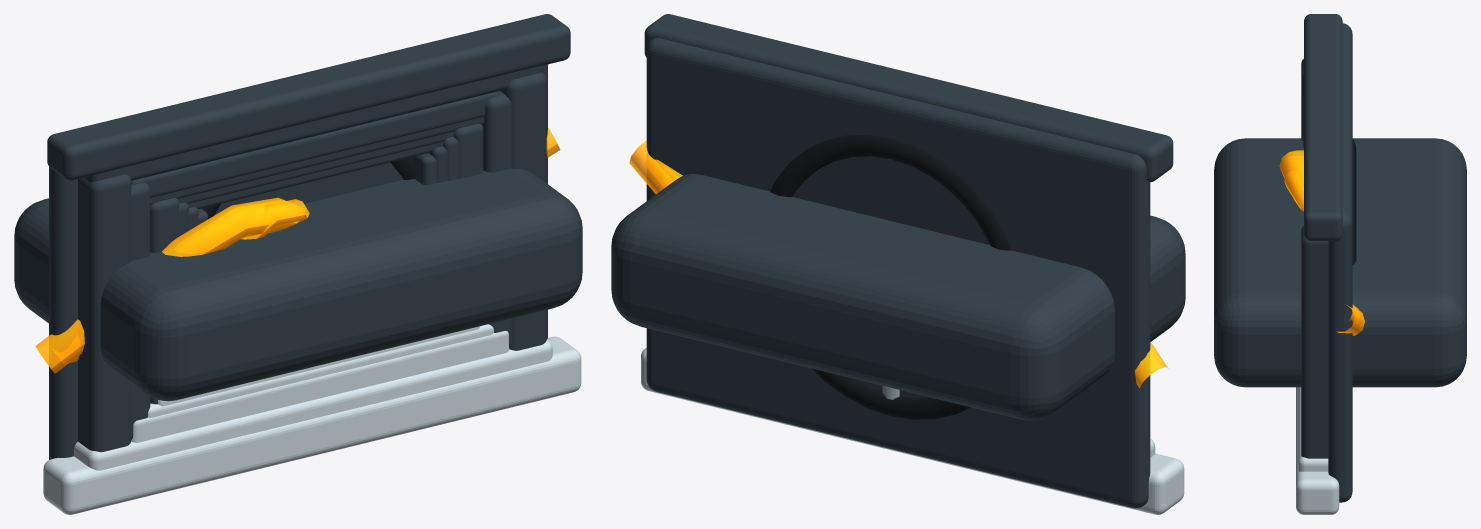
File: body_22.glb
3 views of the same model, side by side, from view 1: azimuth 30°, elevation 25°; view 2: azimuth 150°, elevation 25°; view 3: azimuth 270°, elevation 25° (orthographic). The views are drawn at different scales.
Parts seen in each view (by area): view 1: asset_mesh__body_1070__reference_body, asset_mesh__body_1088__lower_flange, asset_mesh__body_1088__upper_flange, asset_mesh__body_1088__left_reinforcement, asset_mesh__body_1088__stamped_sheet, asset_mesh__body_1068__upper_flange, asset_mesh__body_1110__upper_flange, asset_mesh__body_1110__lower_flange, asset_mesh__body_1068__lower_flange, asset_mesh__body_1097__fluid_path, asset_mesh__body_1088__right_reinforcement, asset_mesh__body_1109__upper_flange (+10 smaller); view 2: asset_mesh__body_1088__stamped_sheet, asset_mesh__body_1070__reference_body, asset_mesh__body_1088__lower_flange, asset_mesh__body_1115__service_element, asset_mesh__body_1088__upper_flange, asset_mesh__body_1097__fluid_path; view 3: asset_mesh__body_1070__reference_body, asset_mesh__body_1088__lower_flange, asset_mesh__body_1088__stamped_sheet, asset_mesh__body_1088__right_reinforcement, asset_mesh__body_1088__upper_flange, asset_mesh__body_1097__fluid_path, asset_mesh__body_1068__upper_flange, asset_mesh__body_1115__service_element, asset_mesh__body_1098__fluid_path.
Boxes of the visible parts, left/top/right/bottom form: asset_mesh__body_1070__reference_body: left=14, top=168, right=582, bottom=401; asset_mesh__body_1088__lower_flange: left=47, top=14, right=570, bottom=180; asset_mesh__body_1088__upper_flange: left=43, top=336, right=581, bottom=514; asset_mesh__body_1088__left_reinforcement: left=78, top=174, right=131, bottom=452; asset_mesh__body_1088__stamped_sheet: left=49, top=64, right=547, bottom=459; asset_mesh__body_1068__upper_flange: left=74, top=340, right=552, bottom=470; asset_mesh__body_1110__upper_flange: left=131, top=331, right=509, bottom=442; asset_mesh__body_1110__lower_flange: left=131, top=91, right=500, bottom=197; asset_mesh__body_1068__lower_flange: left=84, top=65, right=542, bottom=182; asset_mesh__body_1097__fluid_path: left=35, top=127, right=560, bottom=373; asset_mesh__body_1088__right_reinforcement: left=501, top=72, right=546, bottom=350; asset_mesh__body_1109__upper_flange: left=148, top=324, right=493, bottom=417; asset_mesh__body_1088__stamped_sheet: left=646, top=37, right=1150, bottom=508; asset_mesh__body_1070__reference_body: left=611, top=173, right=1185, bottom=420; asset_mesh__body_1088__lower_flange: left=644, top=14, right=1173, bottom=182; asset_mesh__body_1115__service_element: left=770, top=134, right=1011, bottom=419; asset_mesh__body_1088__upper_flange: left=641, top=348, right=1184, bottom=514; asset_mesh__body_1097__fluid_path: left=629, top=141, right=1168, bottom=388; asset_mesh__body_1070__reference_body: left=1214, top=138, right=1466, bottom=387; asset_mesh__body_1088__lower_flange: left=1304, top=14, right=1342, bottom=240; asset_mesh__body_1088__stamped_sheet: left=1328, top=23, right=1352, bottom=502; asset_mesh__body_1088__right_reinforcement: left=1301, top=225, right=1328, bottom=458; asset_mesh__body_1088__upper_flange: left=1296, top=387, right=1339, bottom=514; asset_mesh__body_1097__fluid_path: left=1279, top=150, right=1364, bottom=335; asset_mesh__body_1068__upper_flange: left=1298, top=387, right=1328, bottom=471; asset_mesh__body_1115__service_element: left=1352, top=139, right=1356, bottom=264; asset_mesh__body_1098__fluid_path: left=1284, top=170, right=1303, bottom=211.
Bounding box in the file's own units: 1.73 × 1.15 × 0.882.
